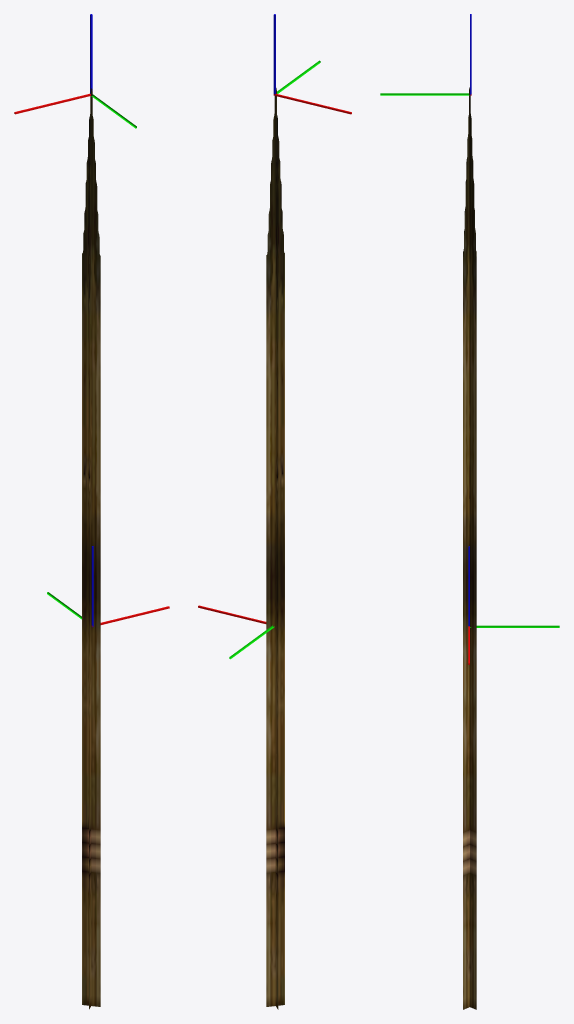
The model's file is javelin.glb.
3 renders of one model, left to right at view 1: azimuth 30°, elevation 25°; view 2: azimuth 150°, elevation 25°; view 3: azimuth 270°, elevation 25°, orthographic.
Visible parts, largest first — view 1: attachments a javelinModel, Dummy_attachpoint, Dummy_hotspot; view 2: attachments a javelinModel, Dummy_attachpoint, Dummy_hotspot; view 3: attachments a javelinModel, Dummy_hotspot, Dummy_attachpoint.
Part boxes in pixels (<box>): attachments a javelinModel: <box>82,88,100,1009</box>; Dummy_attachpoint: <box>14,14,136,128</box>; Dummy_hotspot: <box>47,546,169,627</box>; attachments a javelinModel: <box>266,88,284,1009</box>; Dummy_attachpoint: <box>273,14,351,114</box>; Dummy_hotspot: <box>198,605,274,659</box>; attachments a javelinModel: <box>463,87,476,1009</box>; Dummy_hotspot: <box>468,546,559,664</box>; Dummy_attachpoint: <box>380,14,471,95</box>.
Bounding box in the file's own units: 0.497 × 3.06 × 0.5006.
2 materials, 1 textured.
